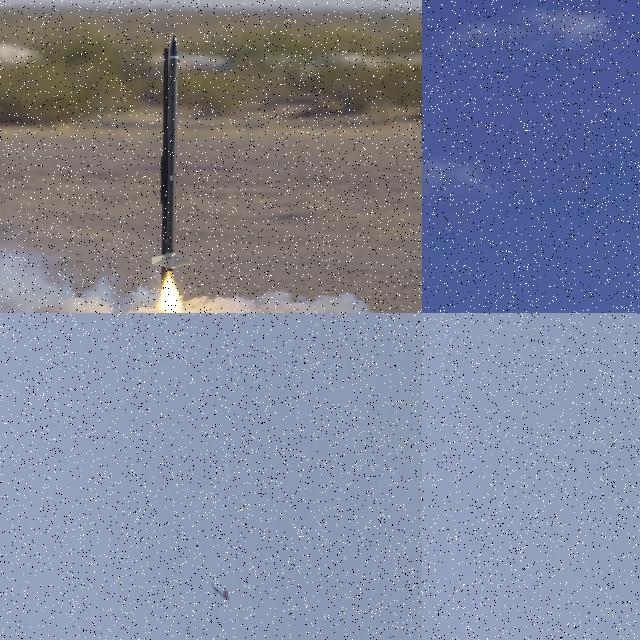Rocket: (152, 32, 193, 271), (211, 582, 223, 598)
